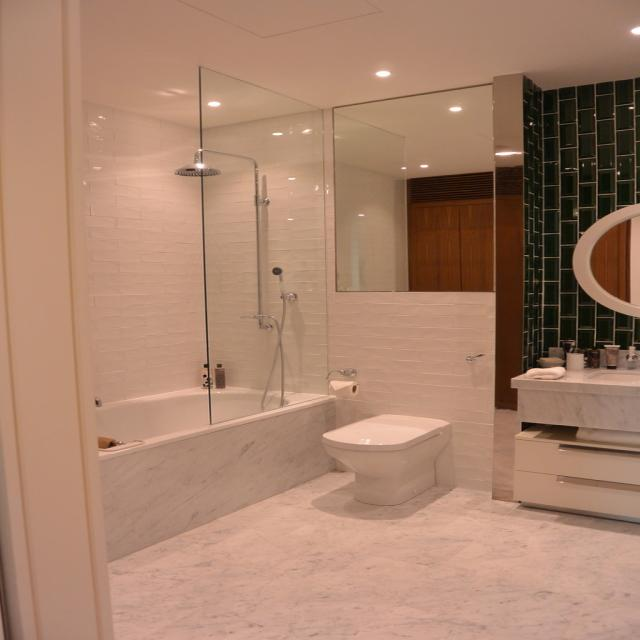toilet: (342, 410, 463, 502)
wash basin: (99, 385, 275, 468)
